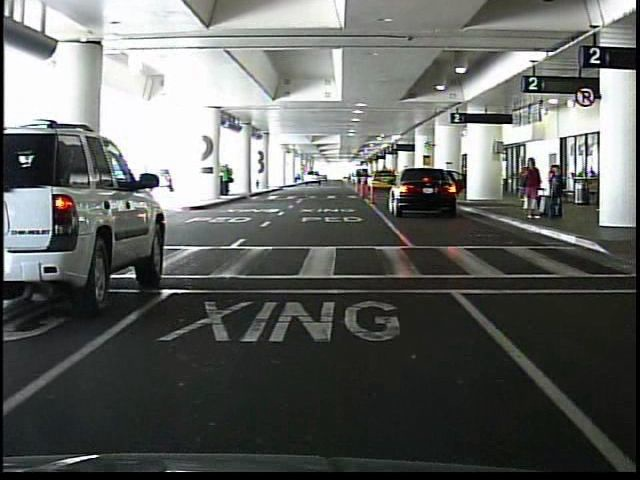person: (516, 155, 541, 217), (546, 164, 566, 217), (220, 163, 234, 197), (549, 165, 560, 200)
